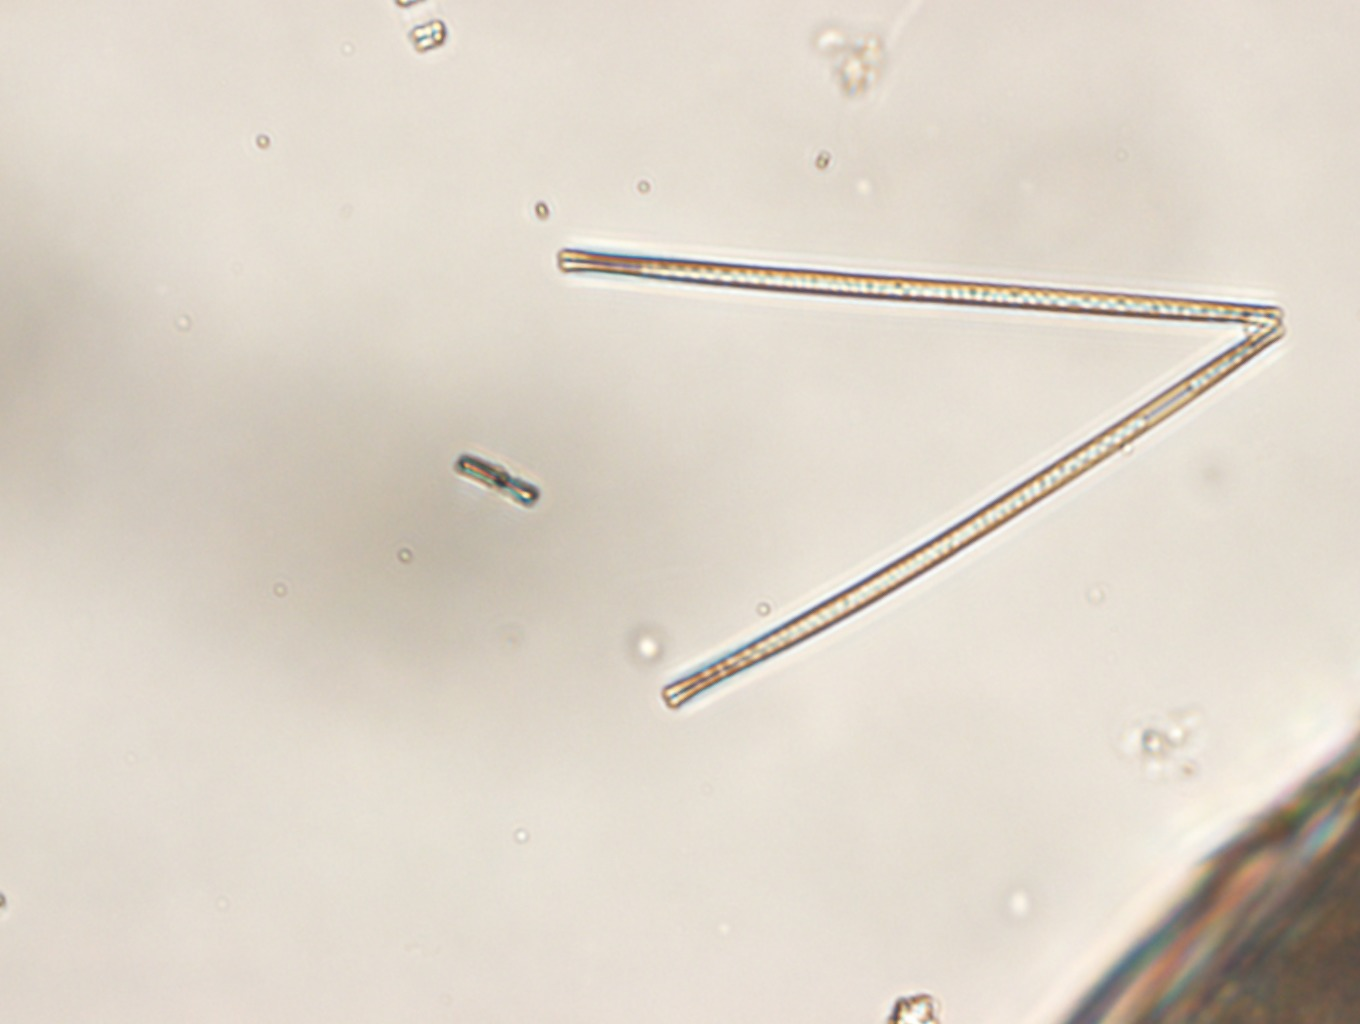thalassionema frauenfeldii: (556, 244, 1285, 714)
